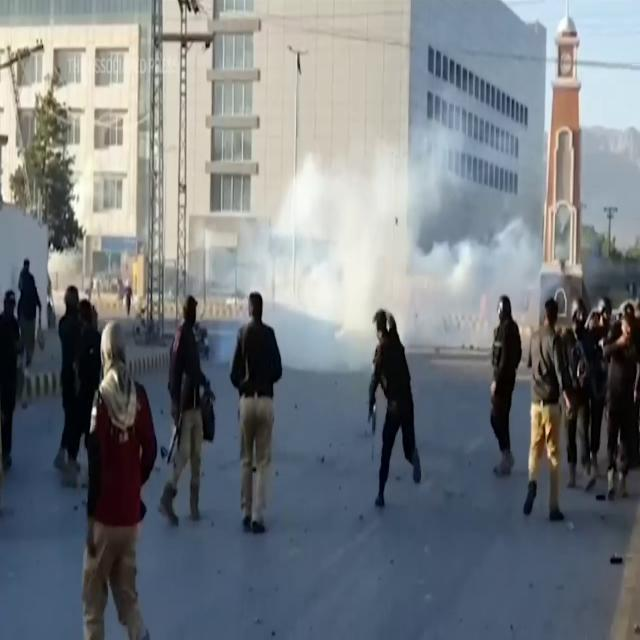Smoke: (232, 110, 542, 387)
